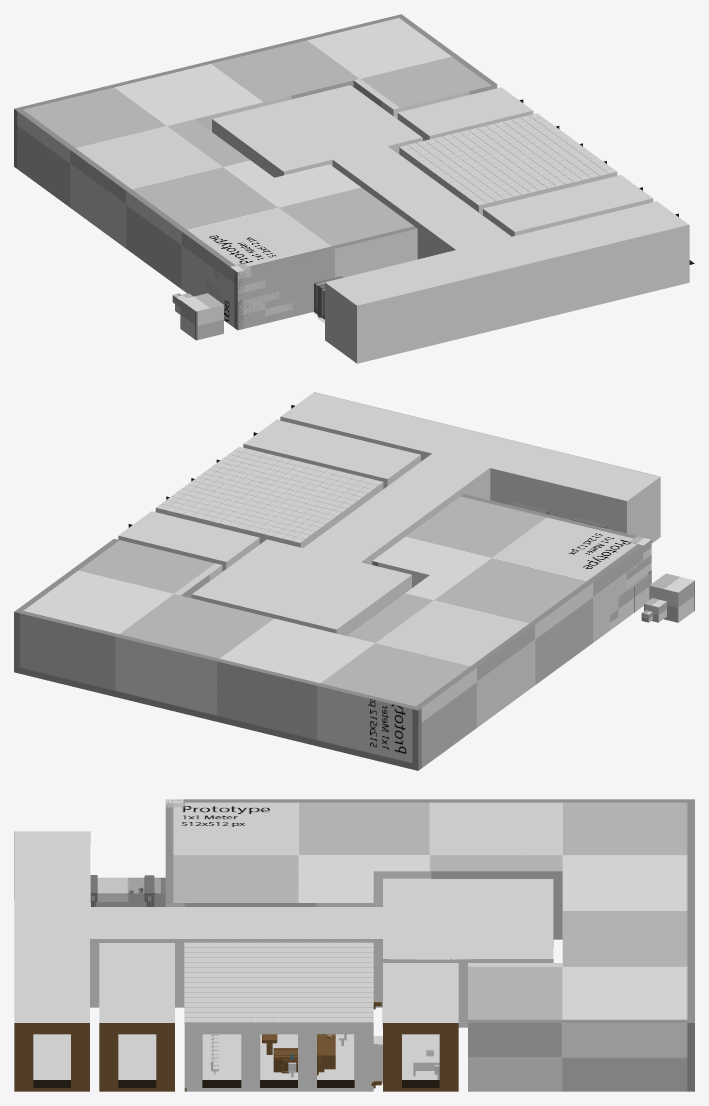
The model's file is Test_Court_Room_v1_1.fbx.
3 renders of one model, top to bottom at view 1: azimuth 30°, elevation 25°; view 2: azimuth 150°, elevation 25°; view 3: azimuth 270°, elevation 25°, orthographic. The views are drawn at different scales.
Parts seen in each view (by area): view 1: SM_TestRoom_Ceiling, SM_Foyer_Roof, Border_Foyer_Walls, SM_TestRoom_Walls, SM_CourtRoom_Roof_Tiles, ExtraRoom_Ceiling, SM_ConsultationRoom_Wall_Roof, SM_TestRoom_Meter_2__Base, SM_TestRoom_Meter_2_.001, SM_ExtraRoom_Walls.001, SM_ConsultationRoom_Wall_south, SM_CourtRoom_Wall_south; view 2: SM_TestRoom_Ceiling, SM_TestRoom_Walls, SM_Foyer_Roof, SM_CourtRoom_Roof_Tiles, Border_Foyer_Walls, ExtraRoom_Ceiling, SM_ConsultationRoom_Wall_Roof, SM_TestRoom_Meter_2__Base, SM_ExtraRoom_Walls.001, SM_TestRoom_Meter_2_.001, SM_ConsultationRoom_Wall_south, SM_CourtRoom_Wall_north (+1 smaller); view 3: SM_TestRoom_Ceiling, SM_Foyer_Roof, SM_TestRoom_Walls, SM_CourtRoom_Roof_Tiles, SM_CourtRoom_Window, ExtraRoom_Ceiling, Border_Foyer_Walls, SM_ConsultationRoom_Wall_Roof, Plane.008, SM_Foyer_Window, SM_ExtraRoom_Window, SM_CourtRoom_Floor (+11 smaller).
Part boxes in pixels (left/top/right/bottom): SM_TestRoom_Ceiling: left=14, top=14, right=496, bottom=271; SM_Foyer_Roof: left=212, top=85, right=688, bottom=305; Border_Foyer_Walls: left=212, top=85, right=689, bottom=363; SM_TestRoom_Walls: left=14, top=80, right=497, bottom=330; SM_CourtRoom_Roof_Tiles: left=399, top=113, right=617, bottom=205; ExtraRoom_Ceiling: left=483, top=175, right=652, bottom=231; SM_ConsultationRoom_Wall_Roof: left=398, top=87, right=532, bottom=135; SM_TestRoom_Meter_2__Base: left=180, top=293, right=223, bottom=340; SM_TestRoom_Meter_2_.001: left=205, top=278, right=265, bottom=330; SM_ExtraRoom_Walls.001: left=483, top=175, right=653, bottom=236; SM_ConsultationRoom_Wall_south: left=397, top=111, right=533, bottom=140; SM_CourtRoom_Wall_south: left=479, top=172, right=617, bottom=214; SM_TestRoom_Ceiling: left=14, top=494, right=642, bottom=710; SM_TestRoom_Walls: left=14, top=540, right=651, bottom=770; SM_Foyer_Roof: left=192, top=392, right=660, bottom=629; SM_CourtRoom_Roof_Tiles: left=156, top=446, right=383, bottom=543; Border_Foyer_Walls: left=191, top=392, right=660, bottom=635; ExtraRoom_Ceiling: left=244, top=419, right=420, bottom=478; SM_ConsultationRoom_Wall_Roof: left=118, top=511, right=259, bottom=561; SM_TestRoom_Meter_2__Base: left=649, top=573, right=694, bottom=622; SM_ExtraRoom_Walls.001: left=243, top=419, right=420, bottom=488; SM_TestRoom_Meter_2_.001: left=618, top=572, right=651, bottom=623; SM_ConsultationRoom_Wall_south: left=118, top=535, right=259, bottom=571; SM_CourtRoom_Wall_north: left=155, top=508, right=299, bottom=546; SM_TestRoom_Ceiling: left=165, top=799, right=694, bottom=1022; SM_Foyer_Roof: left=14, top=831, right=553, bottom=1022; SM_TestRoom_Walls: left=165, top=871, right=694, bottom=1091; SM_CourtRoom_Roof_Tiles: left=184, top=942, right=373, bottom=1022; SM_CourtRoom_Window: left=184, top=1023, right=373, bottom=1091; ExtraRoom_Ceiling: left=99, top=943, right=174, bottom=1022; Border_Foyer_Walls: left=14, top=831, right=553, bottom=1027; SM_ConsultationRoom_Wall_Roof: left=383, top=963, right=458, bottom=1022; Plane.008: left=383, top=1023, right=458, bottom=1091; SM_Foyer_Window: left=14, top=1023, right=89, bottom=1091; SM_ExtraRoom_Window: left=99, top=1023, right=174, bottom=1091; SM_CourtRoom_Floor: left=202, top=1034, right=318, bottom=1079.
Bounding box in the file's own units: 3200 × 413 × 3602.
